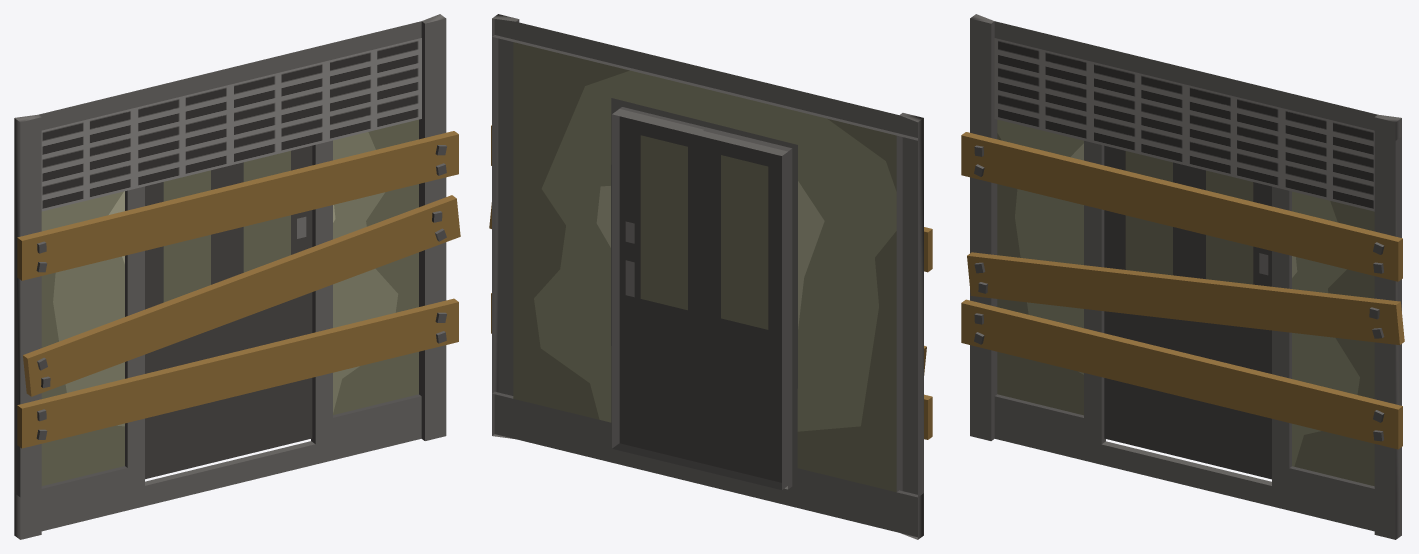
Rendered from AI_Env_StoreFront_Door.fbx.
3 views of the same model, side by side, from view 1: azimuth 30°, elevation 25°; view 2: azimuth 150°, elevation 25°; view 3: azimuth 330°, elevation 25° (orthographic).
Parts seen in each view (by area): view 1: AI_Env_StoreFront_Door; view 2: AI_Env_StoreFront_Door; view 3: AI_Env_StoreFront_Door.
Part boxes in pixels (x1=…): AI_Env_StoreFront_Door: x1=14, y1=14, x2=460, y2=539; AI_Env_StoreFront_Door: x1=489, y1=14, x2=932, y2=539; AI_Env_StoreFront_Door: x1=961, y1=14, x2=1404, y2=539.
Size of the model in its own units: 5.15 by 4.69 by 0.426.
